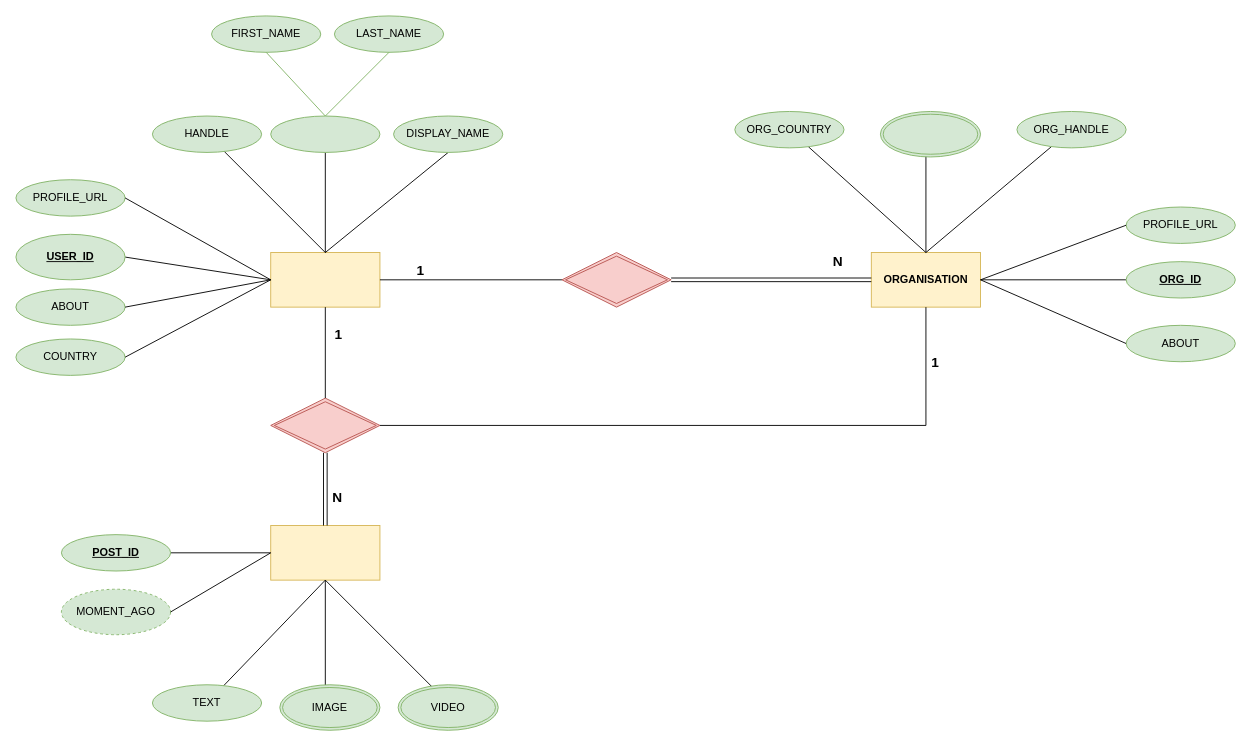
Some shapes in this 1251 by 746 pixel diagram are drawn without their labels. The centre of each missing label's shape, as x and y in pixels:
Create: (616,279)
FULL_NAME: (325,133)
ORG_MAIL: (930,134)
POST: (325,552)
Upload: (325,425)
USER: (325,279)
